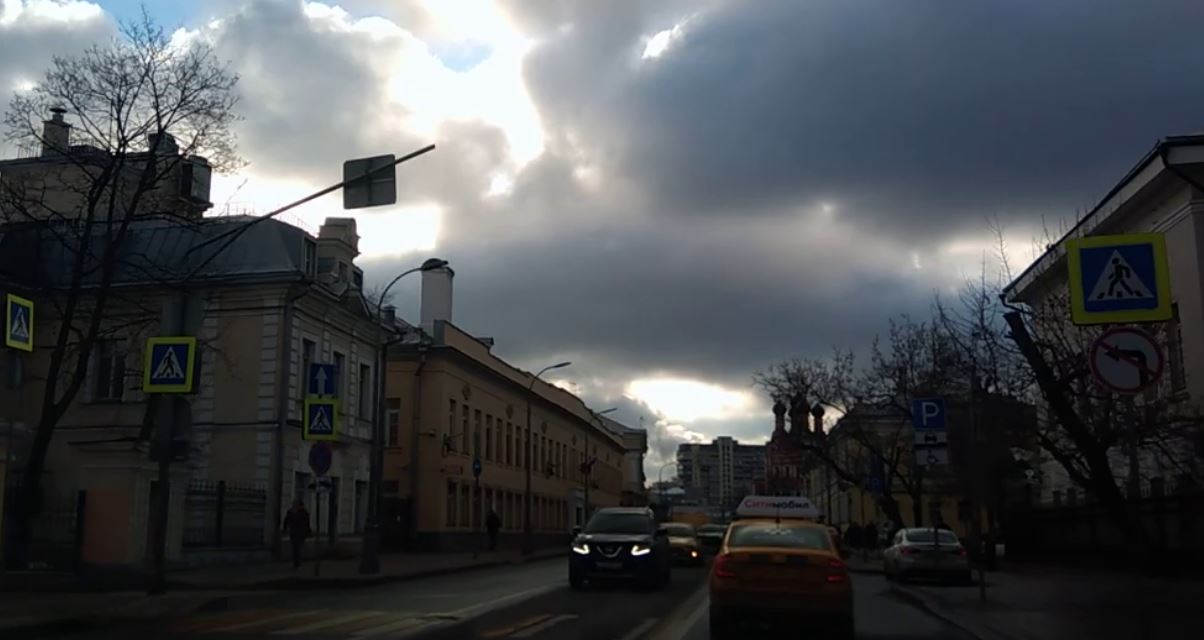Yaya Gecidi: (1078, 241, 1164, 315), (146, 340, 193, 391), (11, 300, 36, 343), (305, 405, 338, 435)
